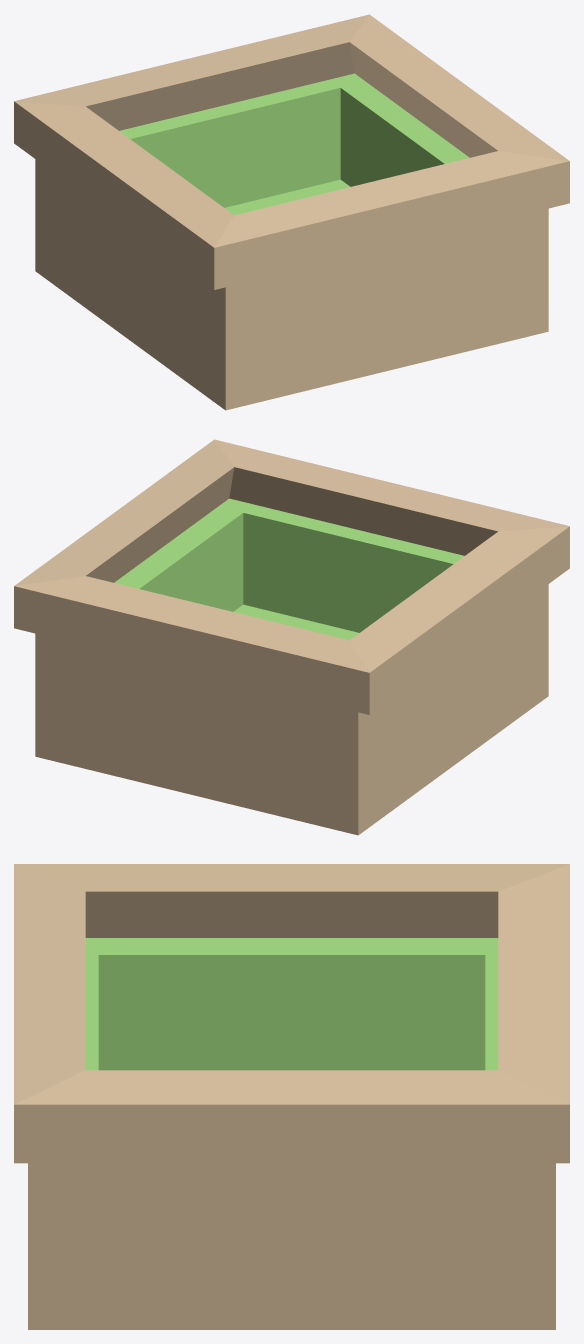
File: Trash.fbx
3 views of the same model, one above another, from view 1: azimuth 30°, elevation 25°; view 2: azimuth 150°, elevation 25°; view 3: azimuth 270°, elevation 25° (orthographic). The views are drawn at different scales.
Visible parts, largest first — view 1: pCube3; view 2: pCube3; view 3: pCube3.
Boxes of the visible parts, x1=… form: pCube3: x1=14, y1=14, x2=569, y2=410; pCube3: x1=14, y1=439, x2=569, y2=835; pCube3: x1=14, y1=864, x2=569, y2=1329.
Bounding box in the file's own units: 1.09 × 0.505 × 1.06.
